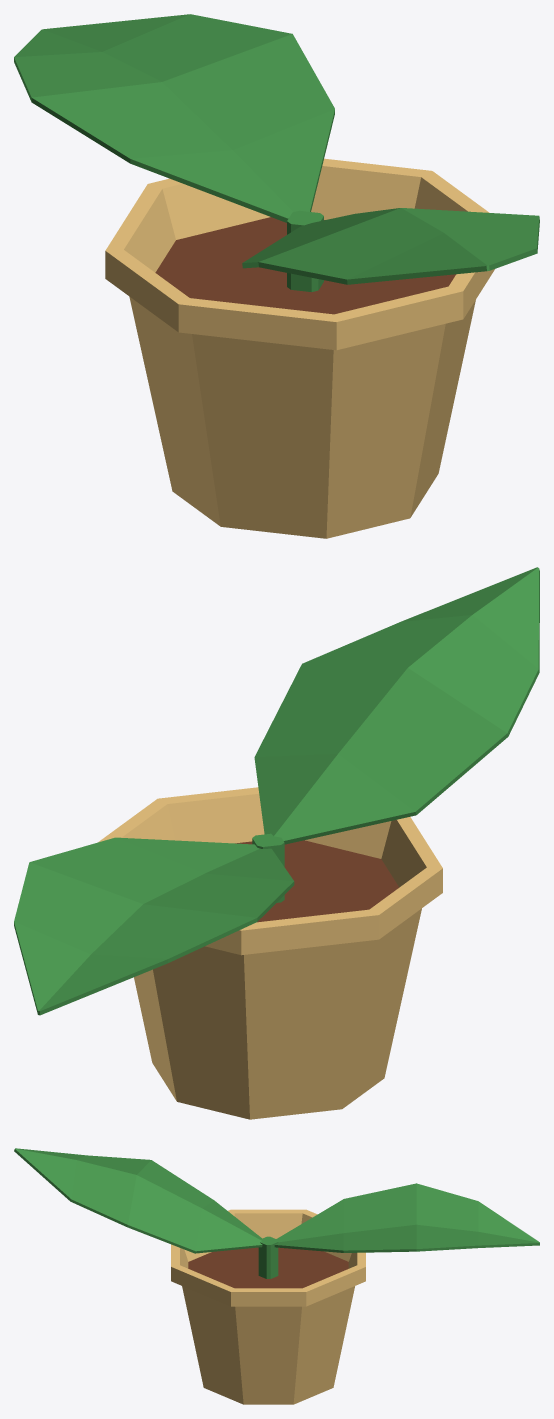
File: Plantita bebe.fbx
3 renders of one model, top to bottom at view 1: azimuth 30°, elevation 25°; view 2: azimuth 150°, elevation 25°; view 3: azimuth 270°, elevation 25°, orthographic. The views are drawn at different scales.
Parts seen in each view (by area): view 1: Pot, Hoja 1, Hoja 2; view 2: Pot, Hoja 2, Hoja 1; view 3: Pot, Hoja 2, Hoja 1.
Boxes of the visible parts, left/top/right/bottom form: Pot: left=105, top=158, right=494, bottom=538; Hoja 1: left=14, top=14, right=334, bottom=222; Hoja 2: left=242, top=208, right=539, bottom=284; Pot: left=98, top=787, right=442, bottom=1119; Hoja 2: left=254, top=567, right=539, bottom=844; Hoja 1: left=14, top=837, right=294, bottom=1015; Pot: left=171, top=1209, right=365, bottom=1404; Hoja 2: left=14, top=1148, right=262, bottom=1253; Hoja 1: left=274, top=1183, right=539, bottom=1252.
Bounding box in the file's own units: 18.46 × 22.23 × 49.81.
